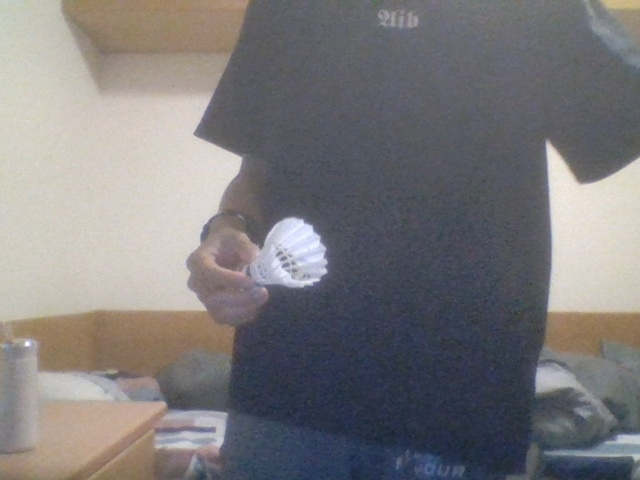human: (186, 1, 640, 480)
shuttle: (241, 216, 327, 288)
